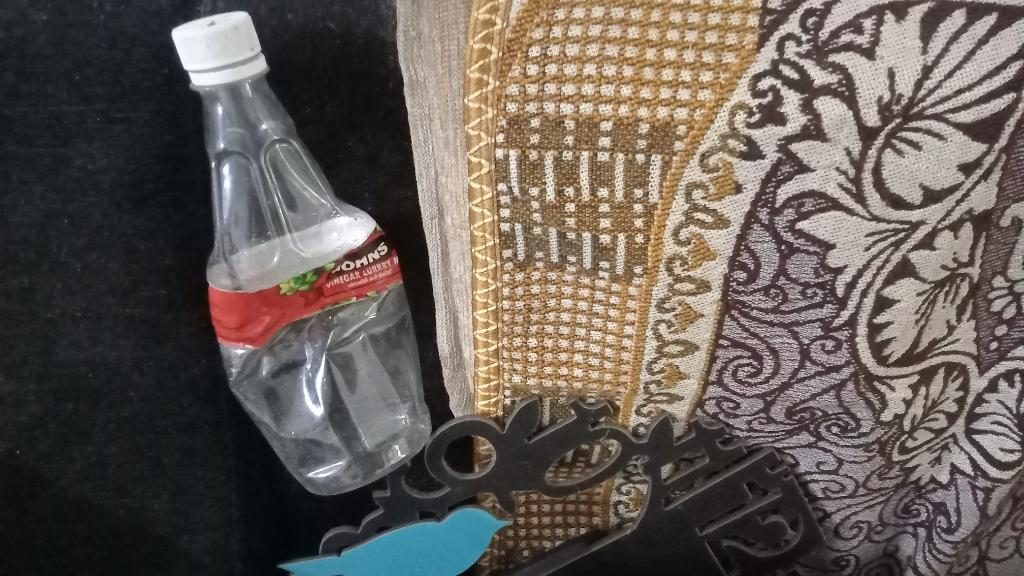garbage: (161, 7, 453, 500)
